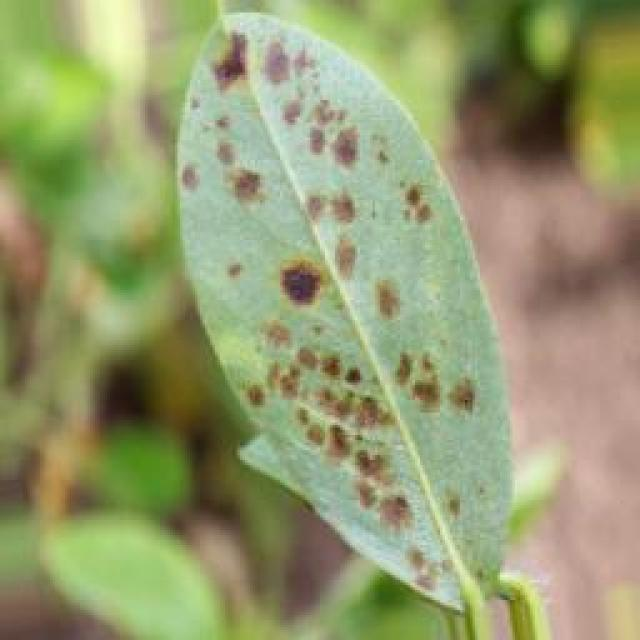Whitefly: (143, 0, 519, 610)
